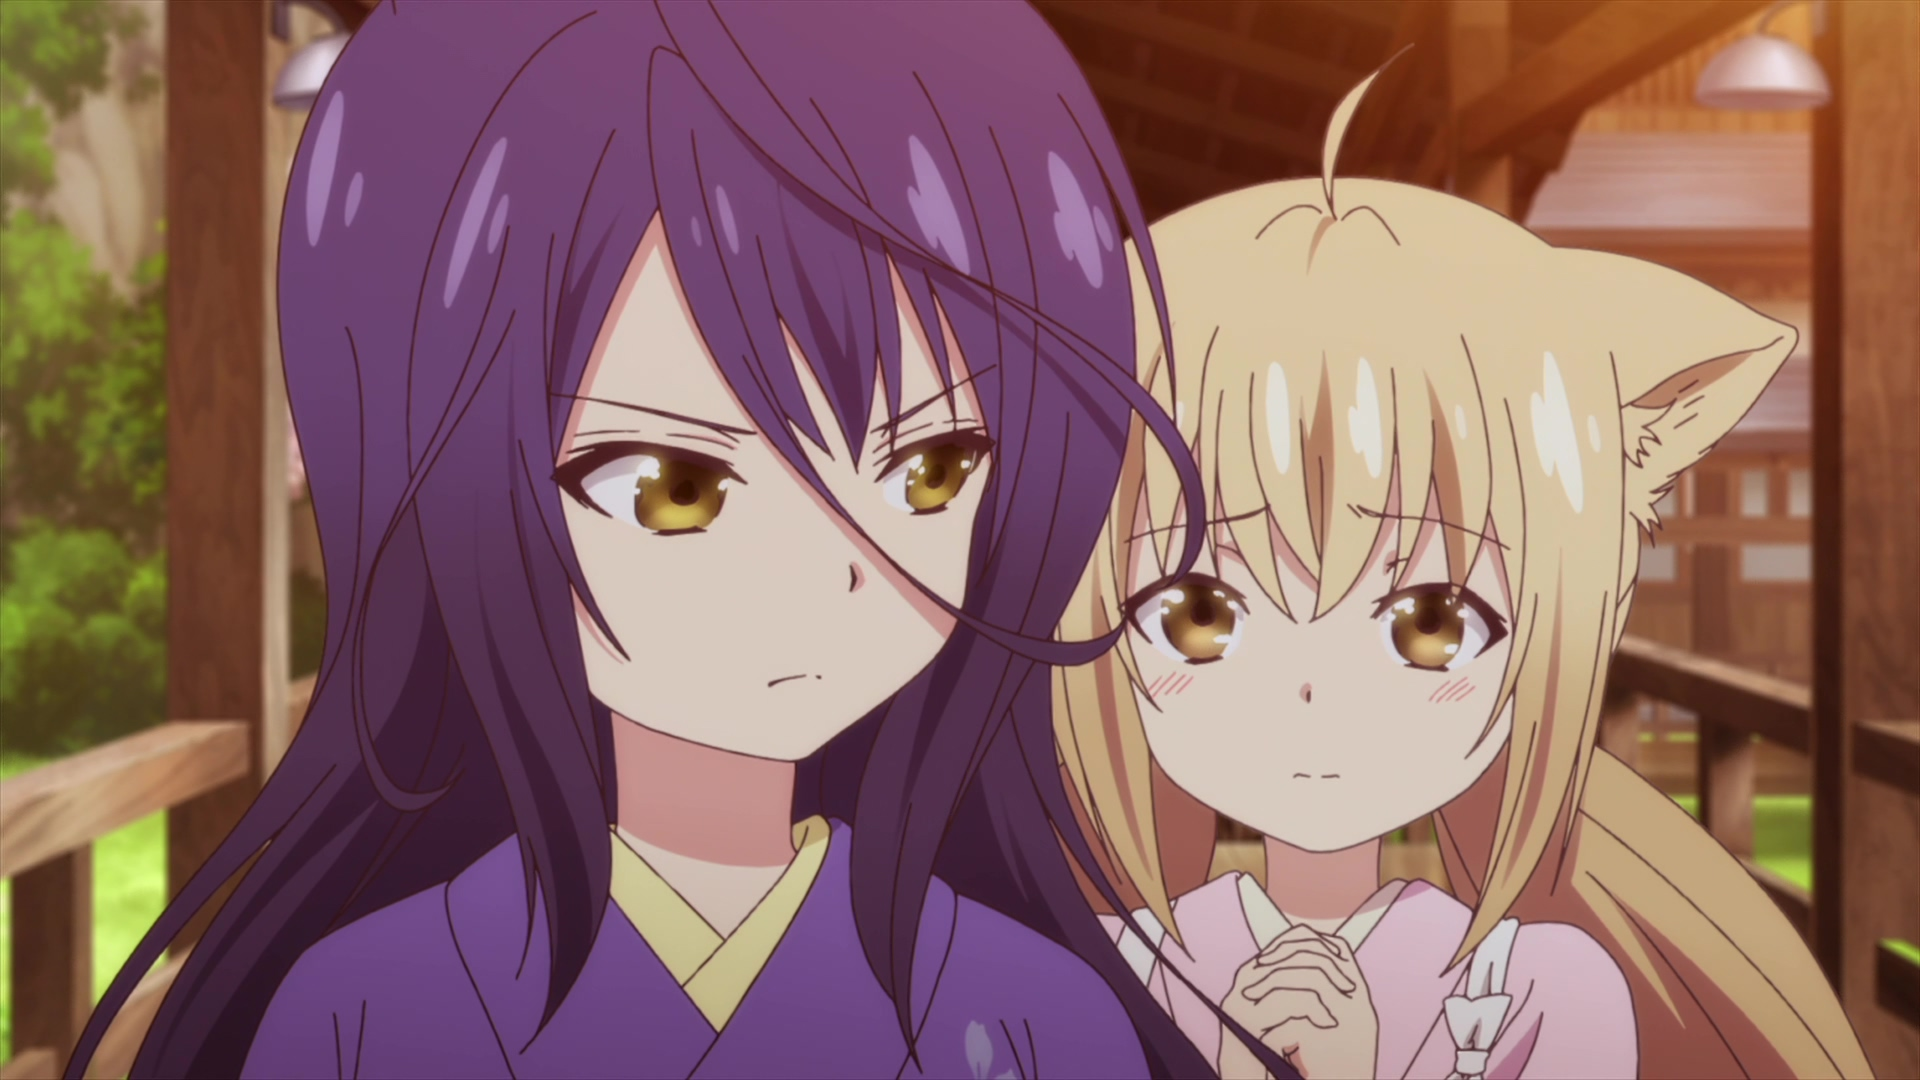柚: (1054, 41, 1871, 1080)
皋: (61, 1, 1207, 1080)
